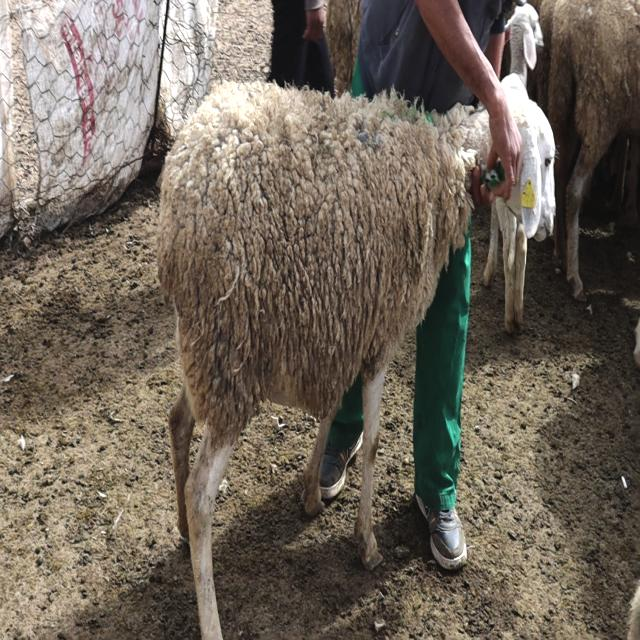Score_2: (157, 81, 476, 639)
